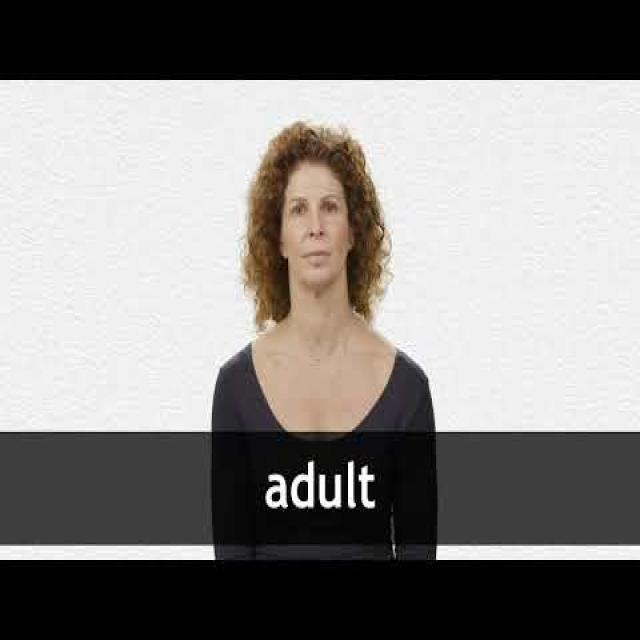adult: (213, 123, 439, 562)
